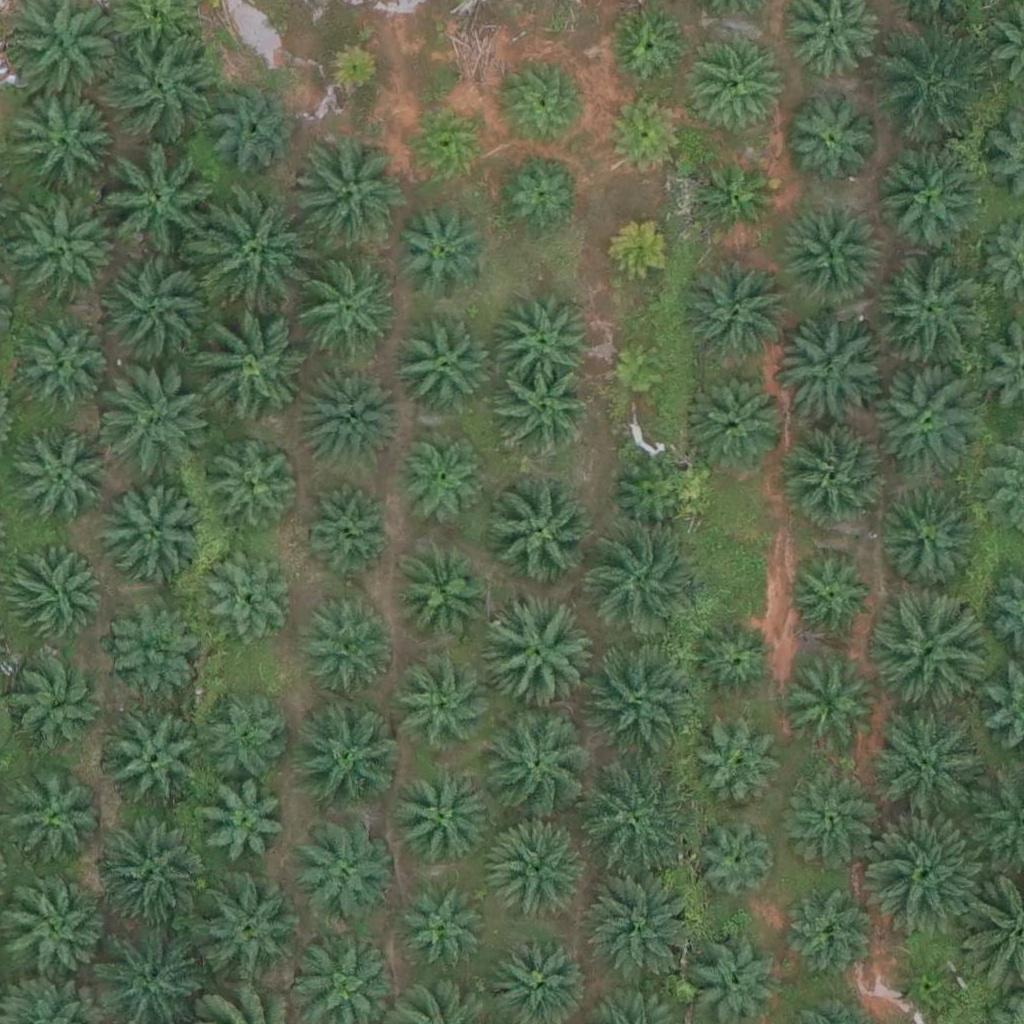Kelapa_Sawit: (873, 368, 986, 482), (680, 252, 793, 366), (587, 645, 700, 759), (484, 473, 597, 587), (876, 250, 989, 363), (873, 587, 986, 700), (778, 318, 891, 431), (477, 601, 590, 714), (99, 253, 212, 366), (93, 822, 206, 935), (875, 37, 988, 150), (196, 200, 309, 313), (102, 149, 215, 262), (98, 370, 210, 484), (872, 708, 984, 821), (869, 819, 981, 932), (590, 524, 702, 637), (578, 764, 690, 877), (586, 876, 698, 989), (480, 708, 592, 821), (192, 309, 304, 422), (189, 874, 301, 987), (293, 136, 405, 249), (108, 32, 220, 145), (10, 182, 122, 295), (879, 488, 979, 589), (779, 205, 879, 306), (792, 428, 892, 529), (693, 369, 793, 470), (493, 289, 593, 390), (387, 202, 487, 303), (394, 318, 494, 419), (394, 542, 494, 643), (396, 659, 496, 760), (392, 770, 492, 871), (300, 258, 400, 359), (297, 591, 397, 692), (296, 710, 396, 811), (293, 819, 393, 920), (205, 431, 305, 532), (105, 486, 205, 587), (109, 715, 209, 816), (10, 428, 110, 529), (2, 548, 102, 649), (7, 648, 107, 749), (3, 880, 103, 981), (778, 96, 878, 197), (682, 33, 782, 134), (15, 96, 115, 197), (490, 817, 590, 917), (296, 373, 396, 473), (101, 598, 201, 698), (883, 147, 983, 247), (397, 440, 485, 529), (787, 774, 875, 862), (696, 725, 784, 813), (692, 819, 780, 907), (610, 454, 698, 542), (502, 369, 590, 457), (302, 484, 390, 572), (501, 57, 589, 145), (501, 149, 589, 237), (599, 89, 687, 177), (214, 82, 302, 170), (788, 555, 875, 644), (404, 885, 491, 974), (792, 670, 879, 758), (785, 890, 872, 978), (691, 622, 778, 710), (203, 552, 290, 640), (203, 693, 290, 781), (200, 781, 287, 869), (22, 323, 109, 411), (11, 776, 98, 864), (402, 99, 489, 187), (692, 149, 779, 237), (604, 211, 679, 287), (900, 958, 963, 1021), (319, 40, 382, 103), (609, 340, 671, 403)
